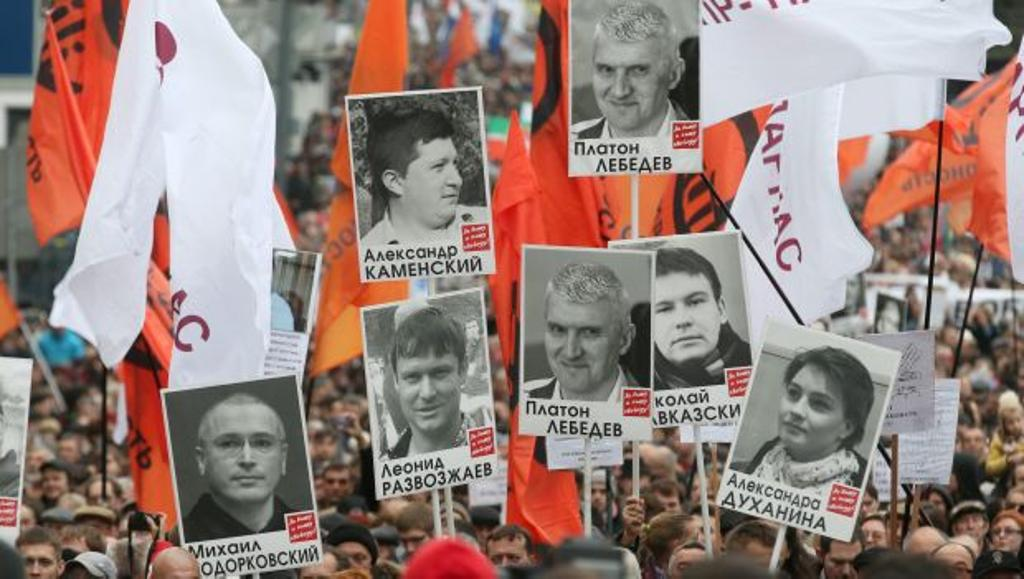face: (206, 419, 282, 503), (593, 48, 671, 129), (547, 310, 620, 392), (650, 282, 721, 362), (398, 353, 461, 430), (400, 144, 463, 221), (779, 379, 845, 449), (490, 545, 528, 579), (825, 544, 861, 579), (19, 548, 58, 579), (335, 547, 372, 579), (745, 547, 780, 579), (652, 496, 680, 531), (934, 553, 971, 579), (402, 533, 432, 564), (471, 521, 499, 554), (994, 523, 1022, 553), (90, 490, 117, 521), (693, 518, 716, 553), (858, 525, 883, 557), (674, 556, 708, 579), (43, 467, 67, 499), (45, 518, 69, 548), (325, 474, 351, 501), (958, 515, 983, 542), (589, 481, 611, 510), (882, 313, 902, 344), (704, 463, 724, 494), (12, 515, 34, 542), (302, 562, 335, 579), (1006, 496, 1024, 527), (855, 496, 875, 520), (676, 430, 695, 452), (101, 456, 119, 478), (60, 442, 76, 465), (964, 434, 982, 454), (927, 497, 944, 518), (318, 437, 335, 457), (1007, 413, 1022, 431), (1015, 468, 1024, 490), (329, 405, 343, 419)
